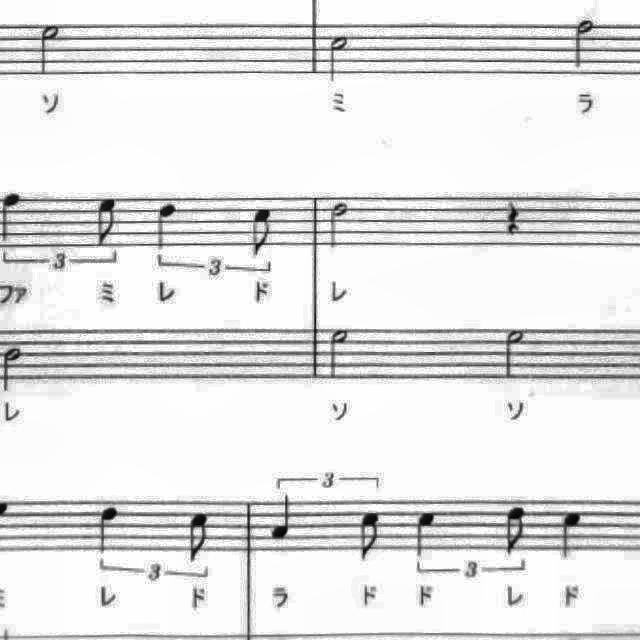Eighth-note: (349, 504, 386, 568), (244, 202, 280, 264), (180, 507, 216, 568), (500, 500, 536, 560), (90, 191, 126, 249)
Half-note: (496, 322, 534, 384), (324, 322, 358, 386), (321, 30, 357, 89), (566, 12, 600, 74), (33, 18, 67, 80), (322, 198, 353, 255), (0, 341, 28, 397)
Quarter-note: (552, 505, 588, 567), (151, 195, 185, 255), (90, 498, 124, 558), (266, 492, 302, 546), (410, 505, 442, 563), (0, 188, 26, 246)
Quarter-rest: (497, 192, 528, 242)
